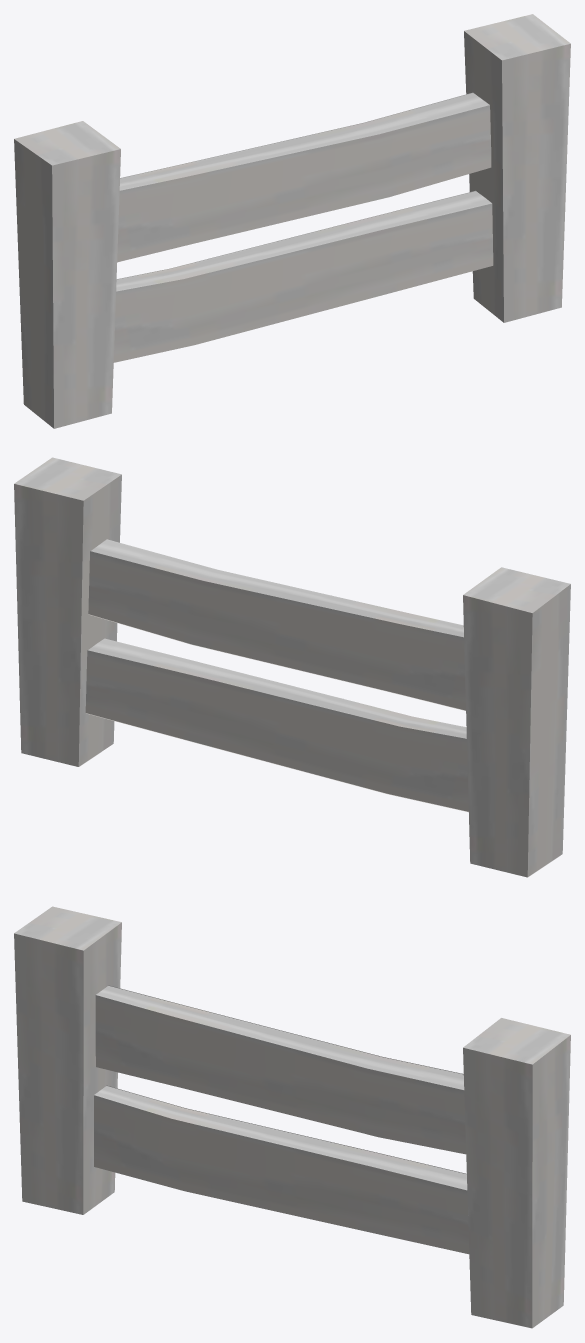
File: FencePart1x3.fbx
The picture shows the model from 3 angles, top to bottom: view 1: azimuth 30°, elevation 25°; view 2: azimuth 150°, elevation 25°; view 3: azimuth 330°, elevation 25°; orthographic projection.
Parts seen in each view (by area): view 1: FencePart1x3; view 2: FencePart1x3; view 3: FencePart1x3.
Part boxes in pixels (<box>): FencePart1x3: <box>14,14,570,428</box>; FencePart1x3: <box>14,457,570,877</box>; FencePart1x3: <box>14,906,570,1328</box>.
Size of the model in its own units: 1.61 by 0.7974 by 0.218.
